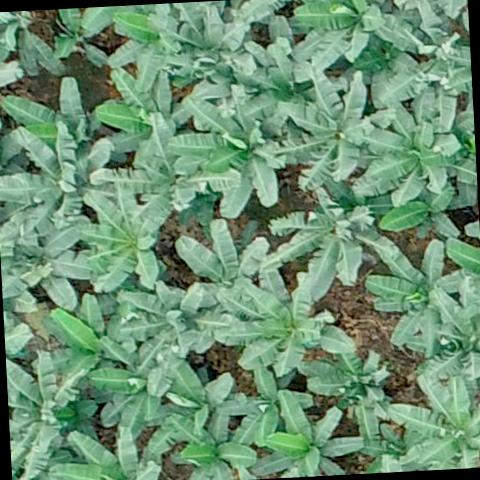Banana-plant: (169, 94, 288, 222), (257, 193, 384, 305), (354, 90, 474, 206), (217, 286, 359, 380), (280, 74, 394, 190), (362, 232, 470, 347), (5, 348, 98, 480), (97, 66, 199, 166), (253, 388, 364, 479), (172, 213, 274, 311), (0, 130, 111, 220), (0, 211, 97, 311), (86, 344, 184, 441), (387, 372, 480, 472), (118, 283, 230, 363), (85, 184, 170, 288), (239, 30, 334, 121), (304, 350, 394, 446), (148, 0, 247, 86), (387, 1, 466, 104), (2, 76, 100, 154), (158, 362, 243, 449), (41, 289, 118, 373), (169, 408, 255, 480), (51, 424, 159, 480), (295, 0, 401, 56), (376, 188, 464, 250), (430, 289, 480, 384)
